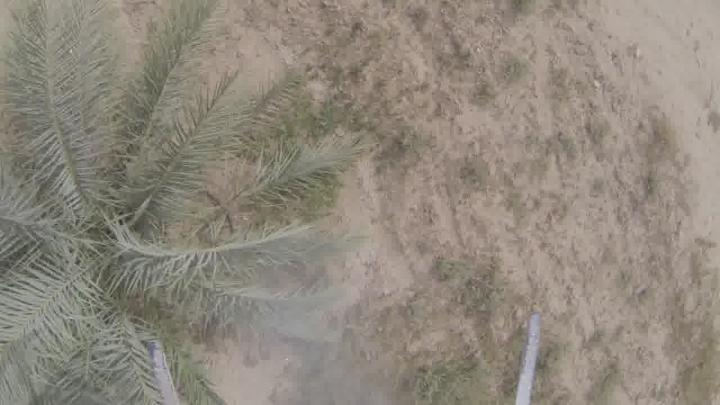Date-Palm-Crown: (0, 78, 244, 392)
